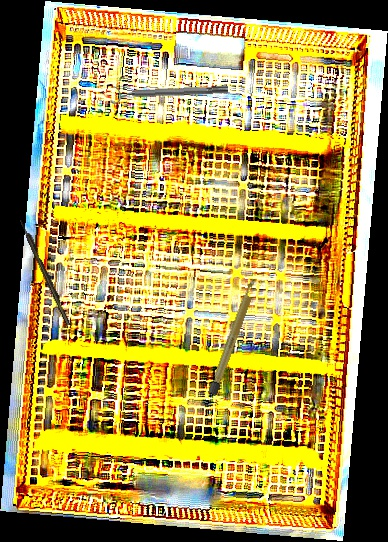Fixation Ring: (110, 80, 229, 105)
Hook Surgical: (18, 218, 72, 327)
Scalpel Handle: (207, 277, 260, 397)
